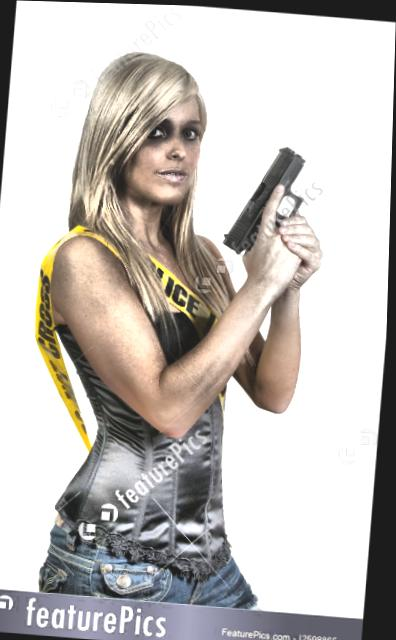pistol: (219, 139, 325, 266)
